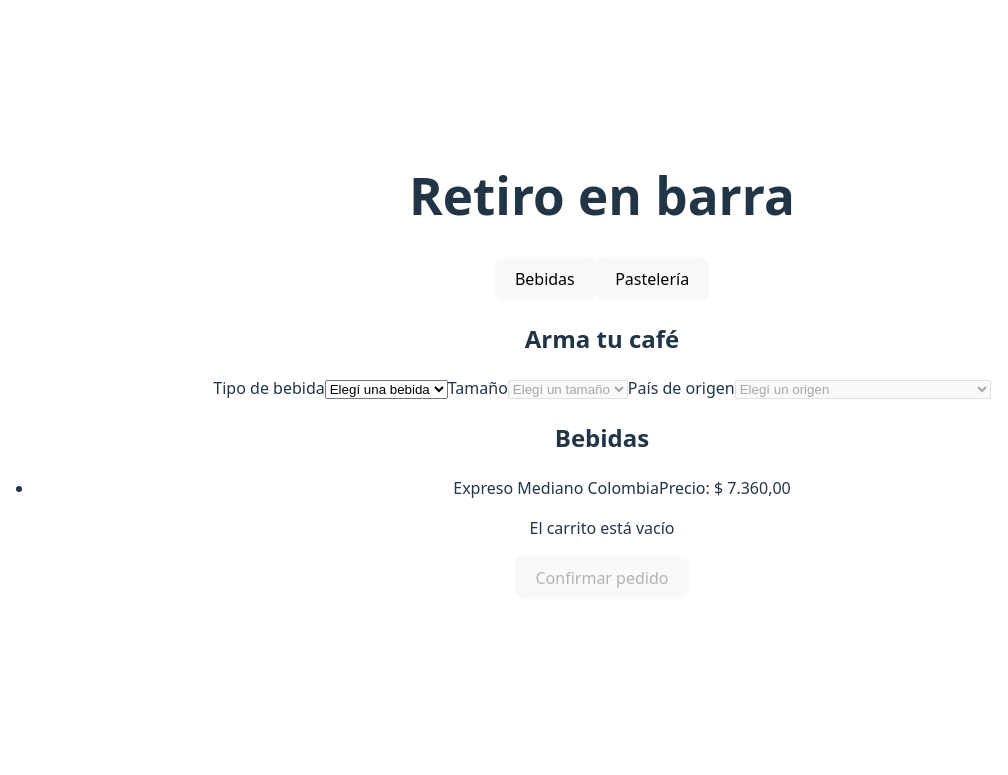
Test: Menu con API › muestra el error de la API y conserva el carrito
Select "Expreso" in the dropdown labelled "Tipo de bebida" at (386, 390), box [325,380,448,400]
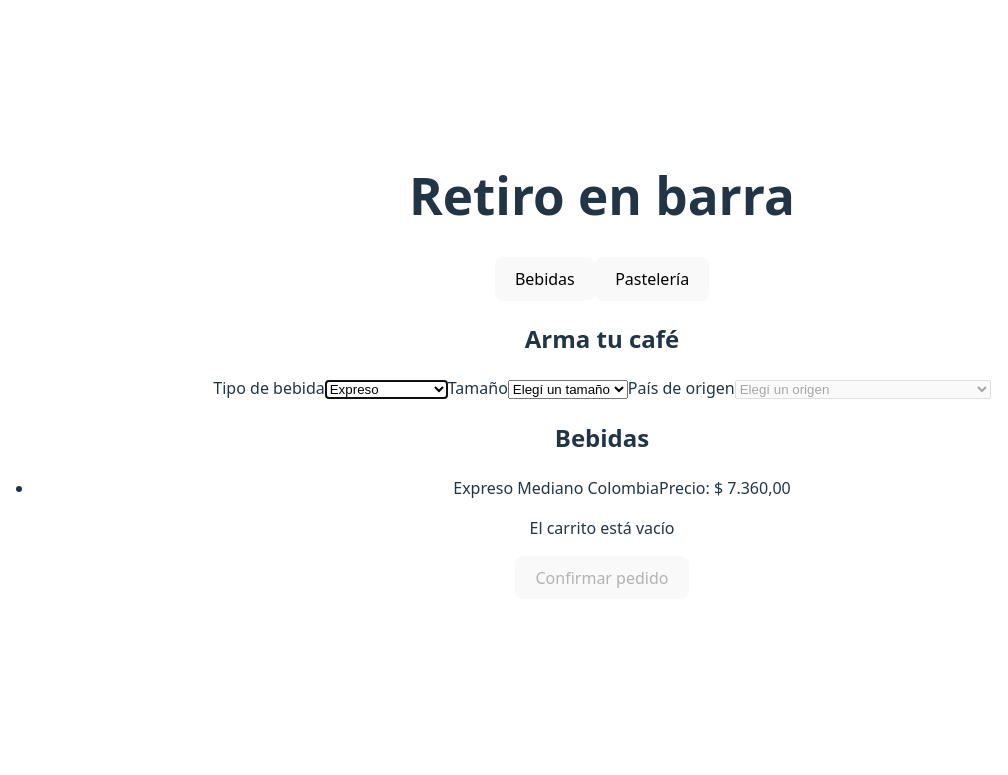
Select "Mediano" in the dropdown labelled "Tamaño" at (568, 390), box [508,380,628,400]
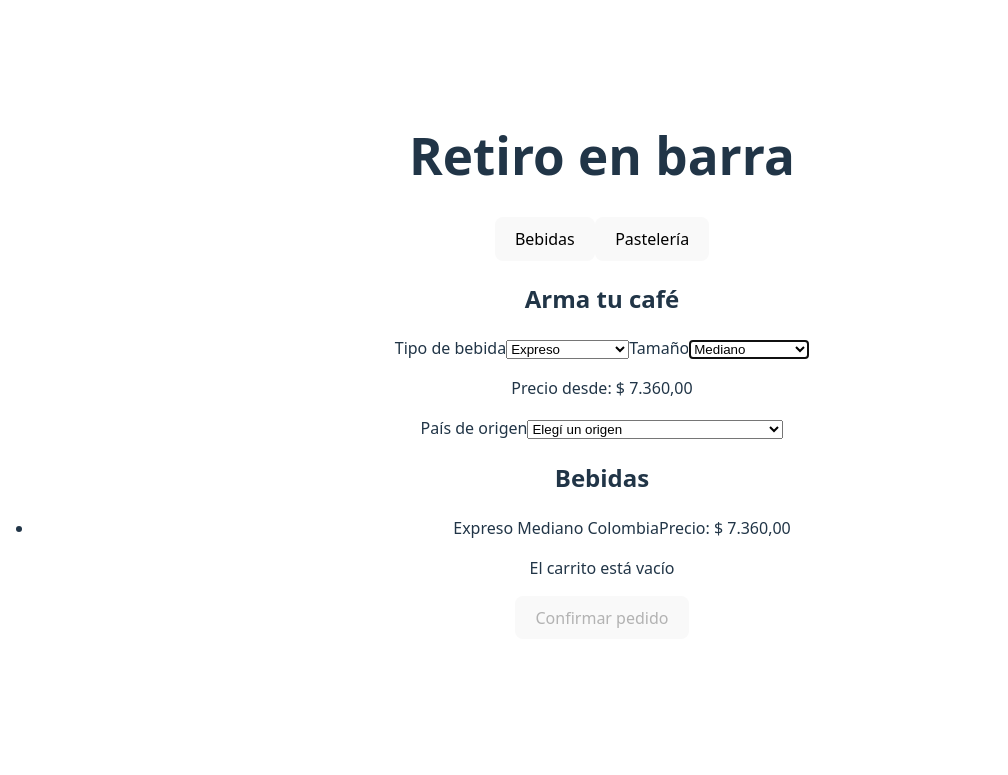
Select "Colombia — Dulce, equilibrado, frutal." in the dropdown labelled "País de origen" at (655, 430), box [527,420,783,440]
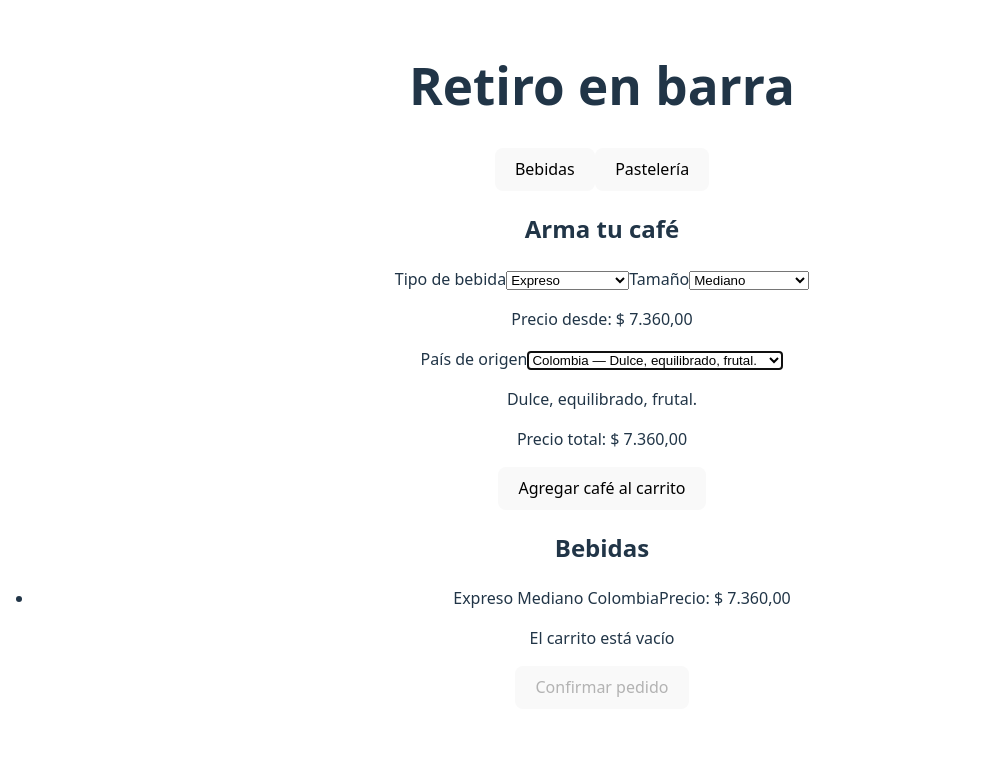
Click the button "Agregar café al carrito" at (602, 488), box [498,467,706,510]
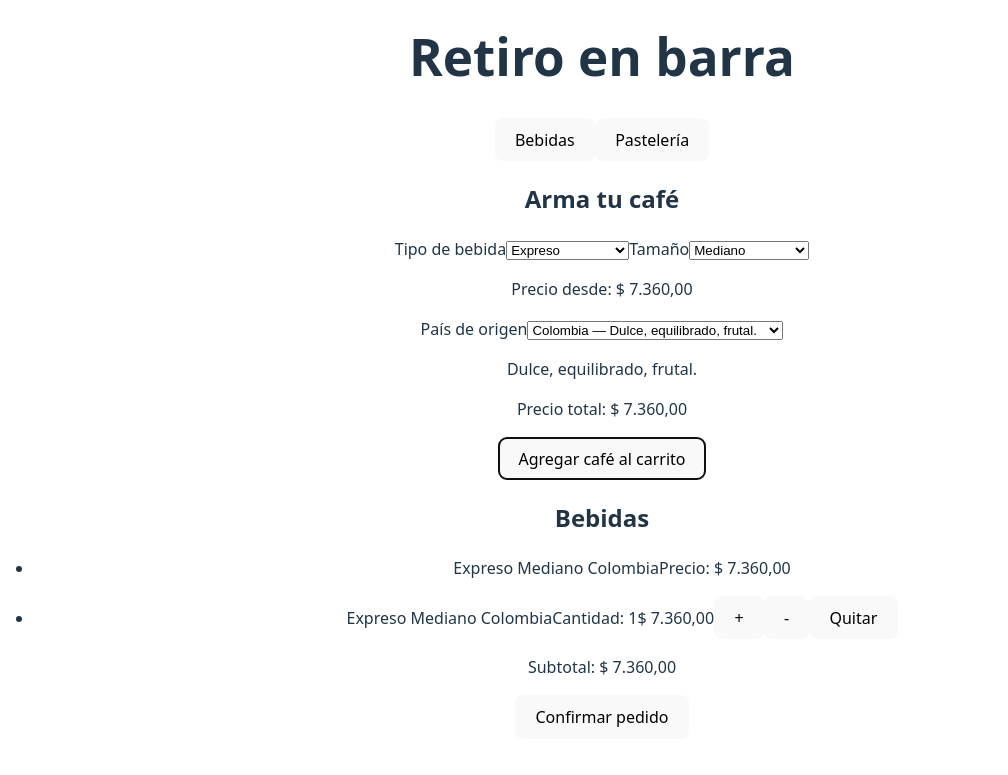
Click the button "Confirmar pedido" at (602, 717), box [515,696,689,739]
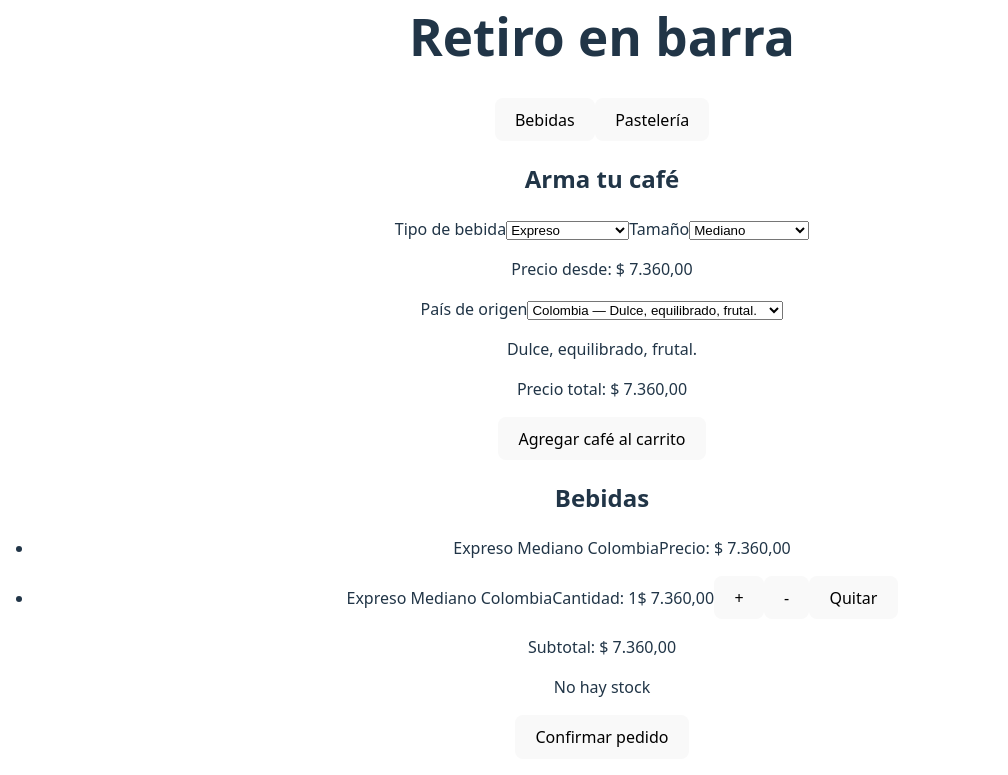
Now the text "Cantidad: 1" is shown, box [552,587,637,609]
Now the button "Confirmar pedido" is enabled, box [515,716,689,759]
Now the message reads "No hay stock", box [554,676,650,698]
